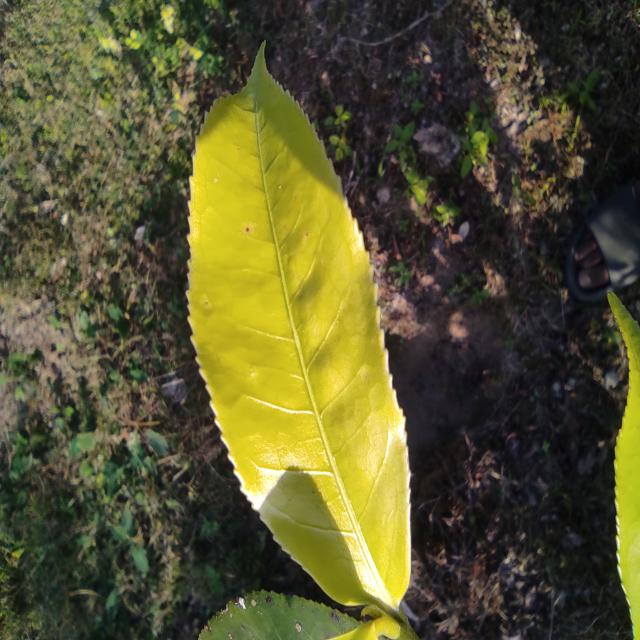Category B 2-4 days: (168, 16, 457, 618)
